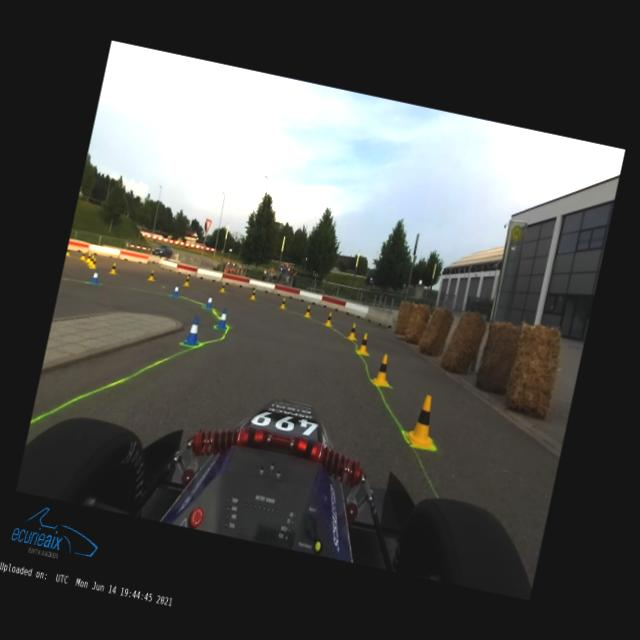blue_cone: (184, 316, 204, 346), (216, 306, 230, 330), (203, 293, 214, 310), (89, 268, 100, 284), (172, 283, 180, 297)
yellow_cone: (404, 392, 444, 449), (372, 352, 394, 386), (356, 332, 371, 354), (347, 322, 358, 340), (324, 312, 334, 326), (304, 304, 312, 316), (90, 257, 98, 269), (183, 275, 190, 286), (110, 262, 116, 274), (88, 254, 94, 266), (220, 282, 226, 292), (250, 290, 256, 300), (148, 270, 154, 280), (280, 298, 286, 308), (80, 250, 86, 260), (86, 252, 90, 262), (66, 248, 70, 255)
